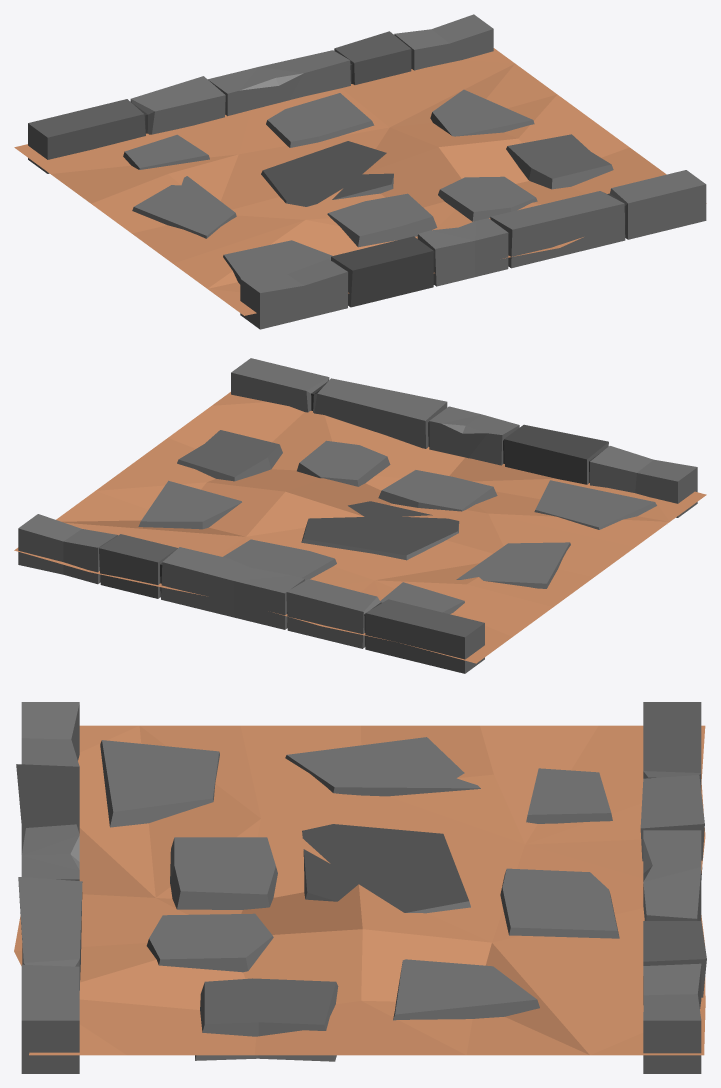
File: Road_01.fbx
3 renders of one model, top to bottom at view 1: azimuth 30°, elevation 25°; view 2: azimuth 150°, elevation 25°; view 3: azimuth 270°, elevation 25°, orthographic. The views are drawn at different scales.
Parts seen in each view (by area): view 1: road_01.001; view 2: road_01.001; view 3: road_01.001.
Part boxes in pixels (x1,y1,x2,y2): road_01.001: (14,14,706,329); road_01.001: (14,358,706,673); road_01.001: (14,702,706,1073).
Size of the model in its own units: 3.81 by 0.3475 by 3.38.
